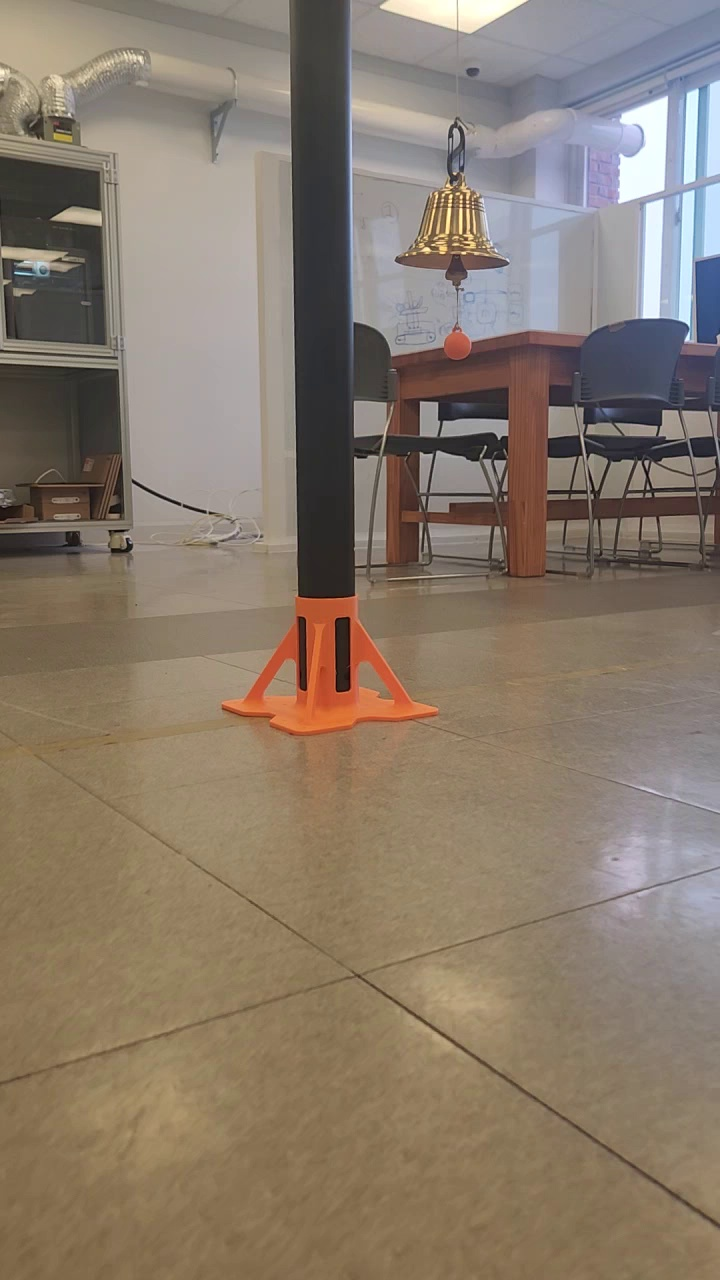bell: (392, 174, 512, 271)
pole: (286, 0, 356, 597)
